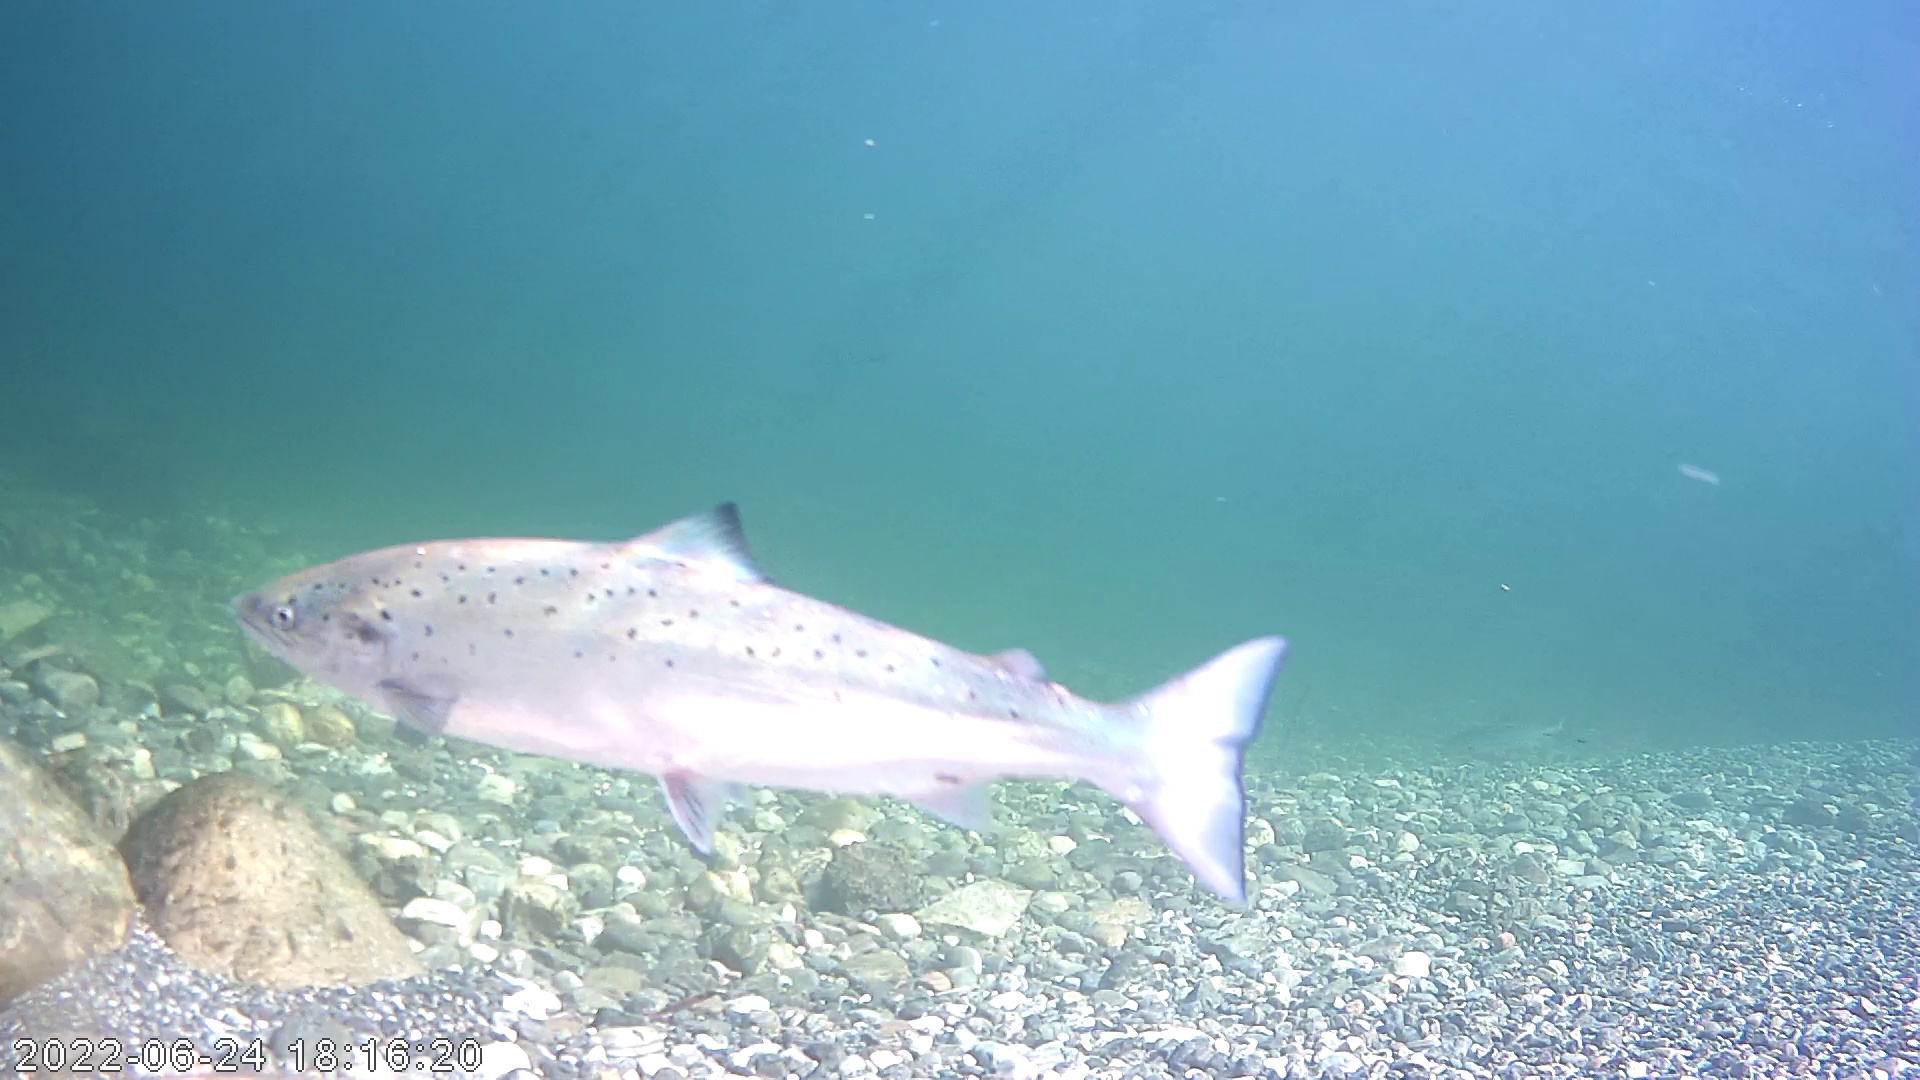salmon: (225, 500, 1291, 914)
